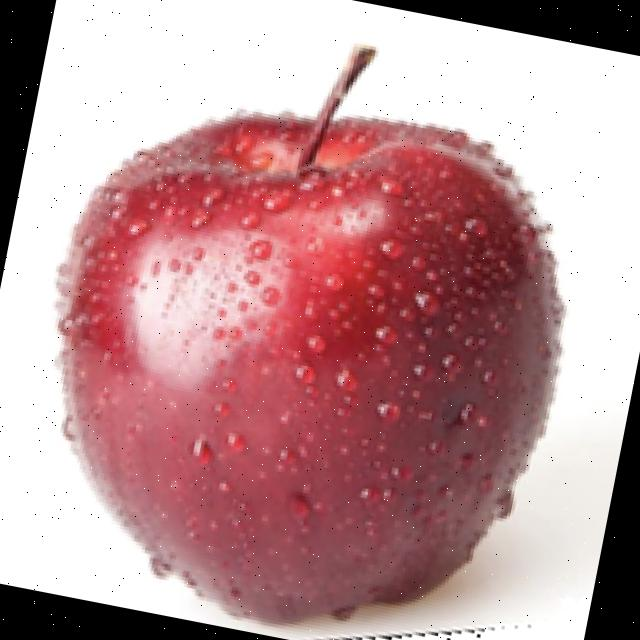apple: (49, 39, 586, 640)
